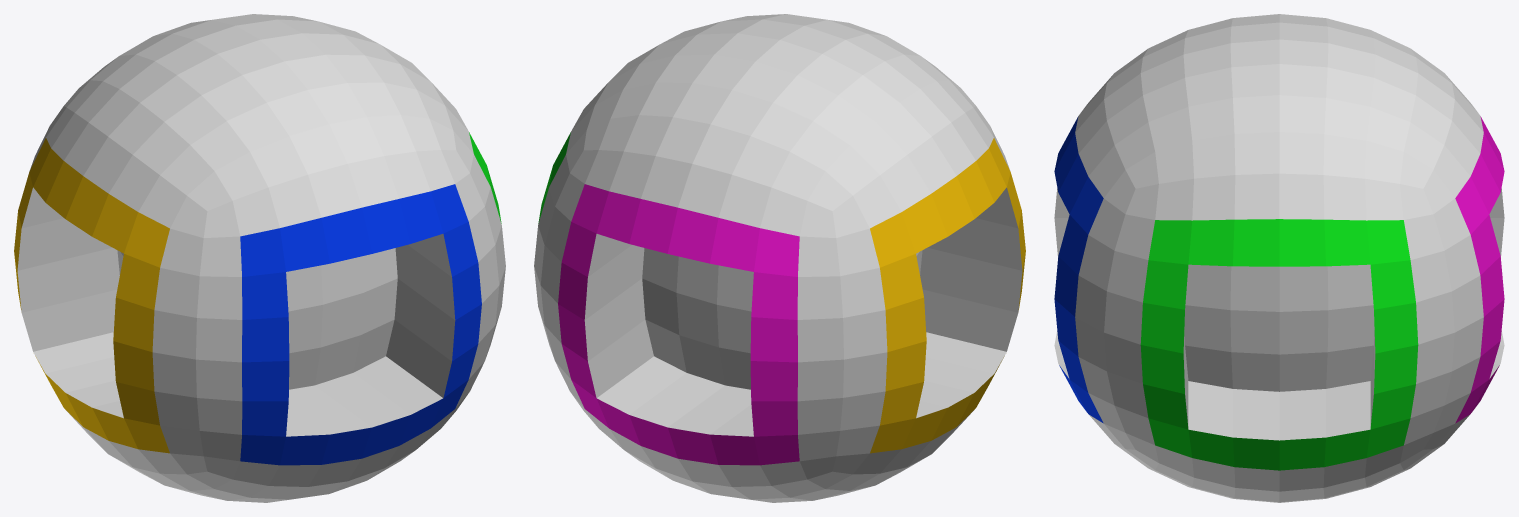
File: BoostBall.fbx
3 renders of one model, left to right at view 1: azimuth 30°, elevation 25°; view 2: azimuth 150°, elevation 25°; view 3: azimuth 270°, elevation 25°, orthographic.
Visible parts, largest first — view 1: Cube; view 2: Cube; view 3: Cube.
Boxes of the visible parts, x1,y1,x2,y2 form: Cube: [14, 14, 505, 502]; Cube: [534, 14, 1025, 502]; Cube: [1054, 14, 1504, 502].
Bounding box in the file's own units: 156 × 168 × 156.
